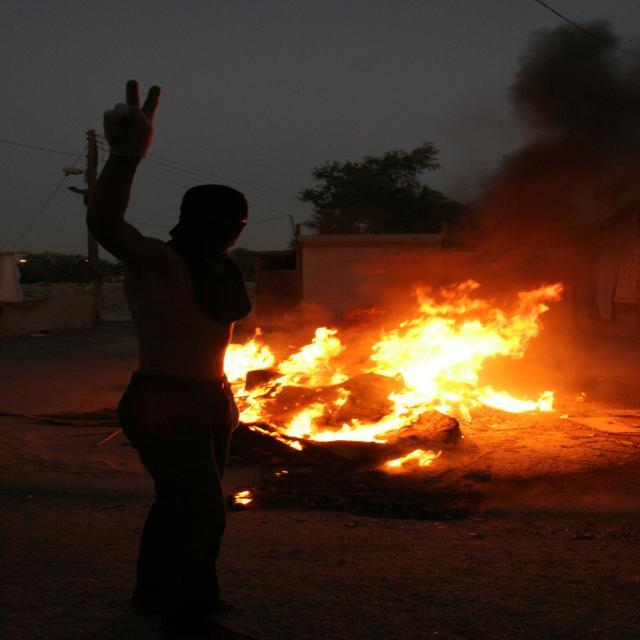Fire: (236, 272, 594, 441)
